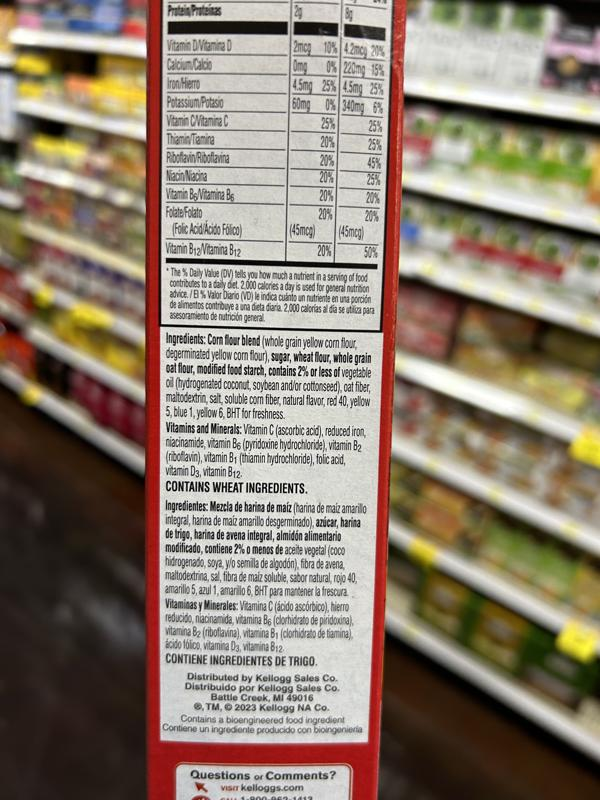ingredients: (162, 330, 375, 422)
